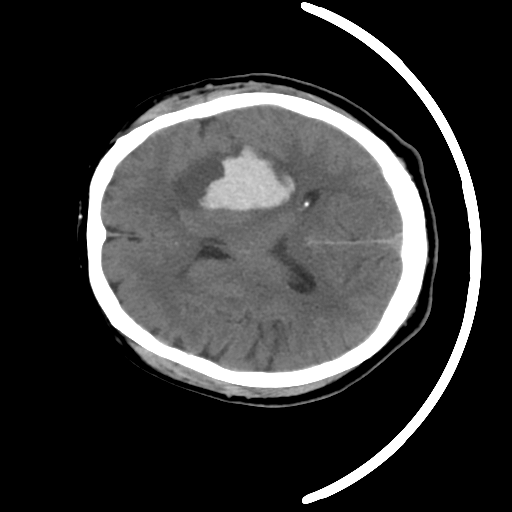a: (162, 133, 306, 222)
